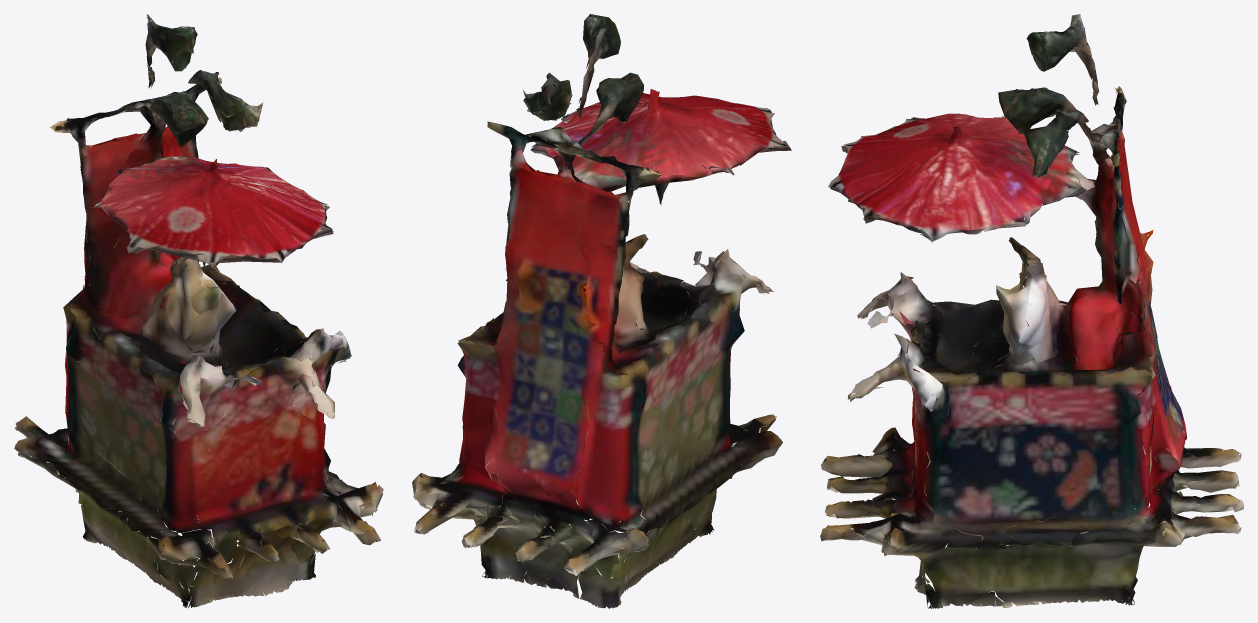
Rendered from 太子山.glb.
3 views of the same model, side by side, from view 1: azimuth 30°, elevation 25°; view 2: azimuth 150°, elevation 25°; view 3: azimuth 270°, elevation 25° (orthographic). The views are drawn at different scales.
Visible parts, largest first — view 1: mesh; view 2: mesh; view 3: mesh.
Part boxes in pixels (x1=…): mesh: x1=14, y1=14, x2=383, y2=607; mesh: x1=412, y1=14, x2=791, y2=608; mesh: x1=820, y1=14, x2=1243, y2=608.
Size of the model in its own units: 3.61 by 7.47 by 5.25.
1 material, 1 textured.
